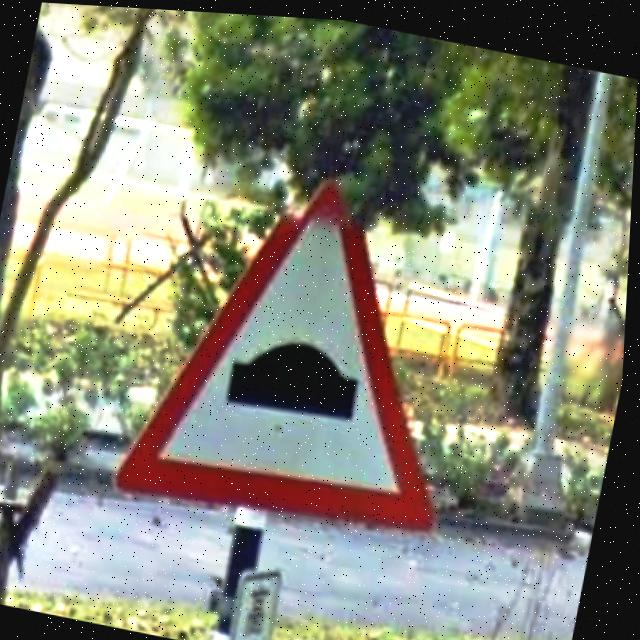hump: (118, 178, 442, 526)
